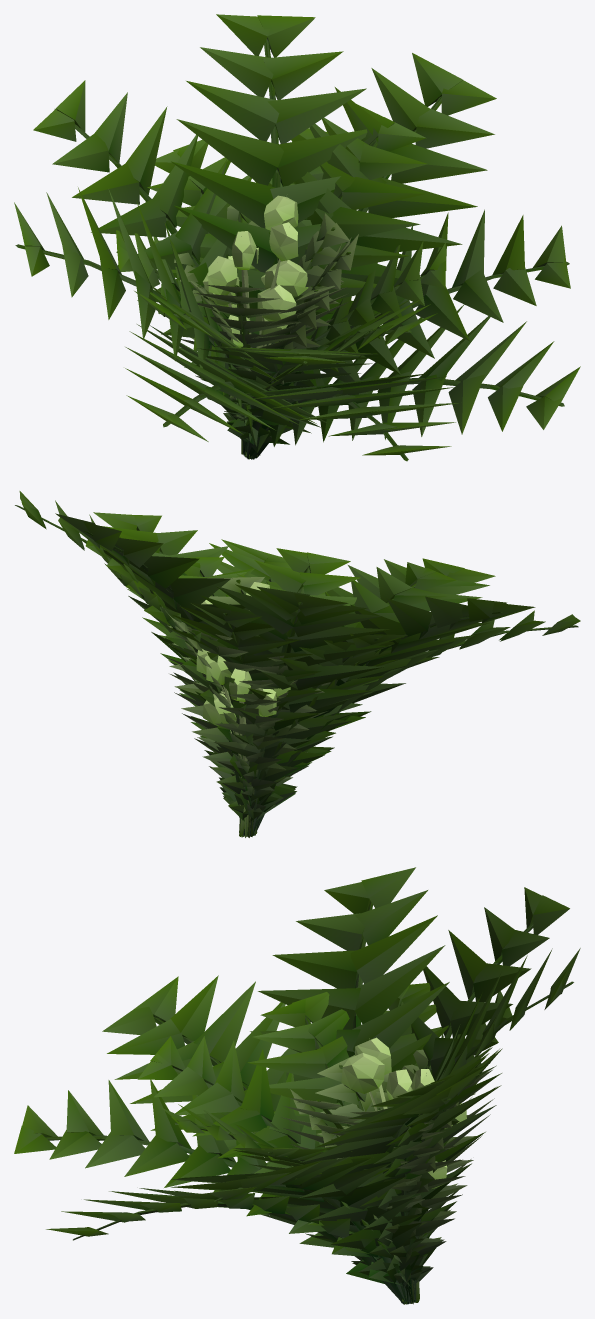
The model's file is vegetasi_fern_moss_765145.glb.
3 views of the same model, one above another, from view 1: azimuth 30°, elevation 25°; view 2: azimuth 150°, elevation 25°; view 3: azimuth 270°, elevation 25° (orthographic). The views are drawn at different scales.
Visible parts, largest first — view 1: Pakis_Tropis_Sungai; view 2: Pakis_Tropis_Sungai; view 3: Pakis_Tropis_Sungai.
Boxes of the visible parts, x1,y1,x2,y2 form: Pakis_Tropis_Sungai: (14, 14, 580, 461); Pakis_Tropis_Sungai: (15, 491, 580, 837); Pakis_Tropis_Sungai: (14, 867, 580, 1304).
Size of the model in its own units: 2.81 by 1.97 by 2.67.
